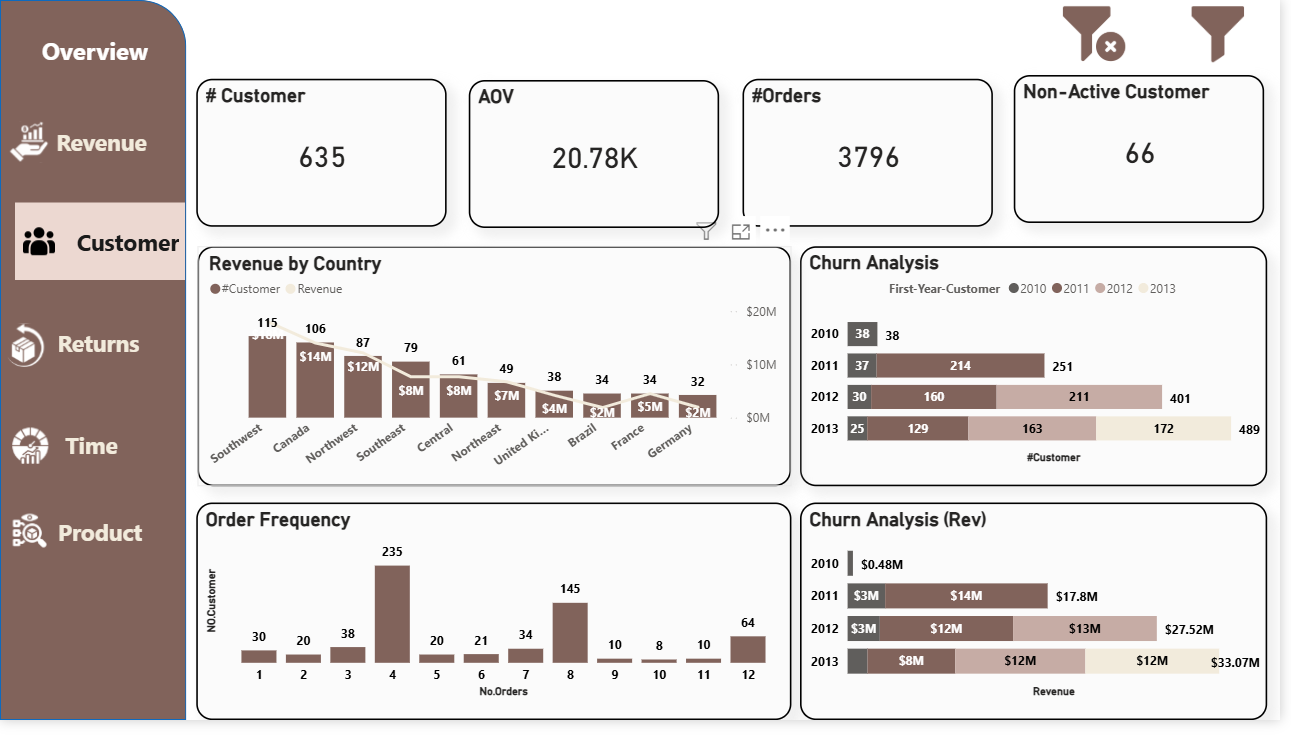

What the dashboard file says about the page in this screenshot:
{"tool":"powerbi","page":{"name":"Customer","canvas":[1280,720],"ordinal":2},"visuals":[{"type":"card","title":"#Orders","fields":{"Values":["Calculation.#Orders"]},"box":[742.5,78.8,250,148],"z":0},{"type":"card","title":"Non-Active Customer","fields":{"Values":["Calculation.Non-Active-Customer"]},"box":[1013.8,75,250,148],"z":1000},{"type":"card","title":"# Customer","fields":{"Values":["Calculation.#Customer"]},"box":[196.2,78.8,250,148],"z":2000},{"type":"clusteredColumnChart","title":"Order Frequency","fields":{"Y":["Calculation.#Customer"],"Category":["Customer.No.Orders"]},"box":[196.2,502.5,595,217.5],"z":3000},{"type":"barChart","title":"Churn Analysis","fields":{"Category":["Calender.Year"],"Y":["Calculation.#Customer"],"Series":["Customer.First-Year-Customer"]},"box":[800,246.2,467.5,240],"z":4000},{"type":"lineClusteredColumnComboChart","title":"Revenue by Country","fields":{"Y2":["Calculation.Revenue"],"Y":["Calculation.#Customer"],"Category":["Customer.Region"]},"box":[197.5,246.2,593.8,240],"z":5000},{"type":"card","title":"AOV","fields":{"Values":["Calculation.AOV"]},"box":[468.8,80,250,148],"z":6000},{"type":"barChart","title":"Churn Analysis (Rev)","fields":{"Category":["Calender.Year"],"Series":["Customer.First-Year-Customer"],"Y":["Calculation.Revenue"]},"box":[800,502.5,467.5,217.5],"z":7000},{"type":"card","fields":{"Values":["Calculation.%New Customer"]},"box":[197.5,152.5,87.5,75],"z":8000},{"type":"card","fields":{"Values":["Calculation.%Old Customer"]},"box":[357.5,153.8,88.8,72.5],"z":9000},{"type":"card","fields":{"Values":["Calculation.AOV-New Customer"]},"box":[744.8,163.5,87.5,63.8],"z":10000},{"type":"card","fields":{"Values":["Calculation.OLD Customer-Orders"]},"box":[907.3,163.5,87.5,63.8],"z":11000},{"type":"image","box":[1032.9,2.5,123.5,62.4],"z":12000},{"type":"image","box":[1156.5,6.4,123.5,56],"z":13000},{"type":"shape","box":[0,0,186.2,720],"z":15000},{"type":"actionButton","box":[1.2,105,186.2,72.5],"z":16000},{"type":"actionButton","box":[15,202.5,170,77.5],"z":17000},{"type":"actionButton","box":[2.5,304.2,185,77.5],"z":18000},{"type":"actionButton","box":[0,406.2,185,77.5],"z":19000},{"type":"actionButton","box":[0,492.5,186.2,77.5],"z":20000},{"type":"actionButton","box":[12.5,0,165,100],"z":21000},{"type":"actionButton","box":[1.2,117.5,55,48.8],"z":22000},{"type":"actionButton","box":[15,221.2,47.5,40],"z":23000},{"type":"actionButton","box":[0,422.5,60,46.2],"z":24000},{"type":"actionButton","box":[5,507.5,50,46.2],"z":25000},{"type":"actionButton","box":[0,311.2,51.2,62.5],"z":26000}]}

Visuals, with their boxes in screenshot pixels (x1, y1, x2, y2):
"#Orders" card: 739,78,987,226
"Non-Active Customer" card: 1008,75,1257,222
"# Customer" card: 195,78,444,226
"Order Frequency" clusteredColumnChart: 195,500,787,716
"Churn Analysis" barChart: 796,245,1261,484
"Revenue by Country" lineClusteredColumnComboChart: 196,245,787,484
"AOV" card: 466,80,715,227
"Churn Analysis (Rev)" barChart: 796,500,1261,716
card - Calculation.%New Customer: 196,152,283,226
card - Calculation.%Old Customer: 356,153,444,225
card - Calculation.AOV-New Customer: 741,163,828,226
card - Calculation.OLD Customer-Orders: 902,163,989,226
image: 1027,2,1150,65
image: 1150,6,1273,62
shape: 0,0,185,716
actionButton: 1,104,186,177
actionButton: 15,201,184,279
actionButton: 2,303,186,380
actionButton: 0,404,184,481
actionButton: 0,490,185,567
actionButton: 12,0,177,99
actionButton: 1,117,56,165
actionButton: 15,220,62,260
actionButton: 0,420,60,466
actionButton: 5,505,55,551
actionButton: 0,310,51,372
